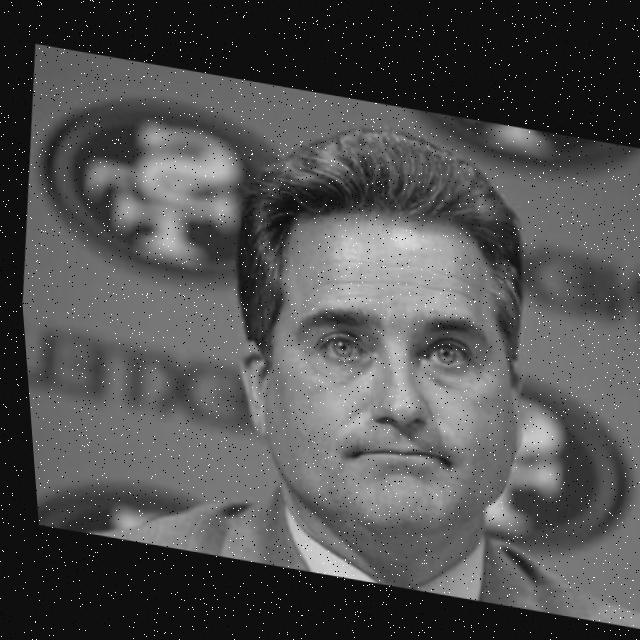face: (245, 159, 539, 584)
